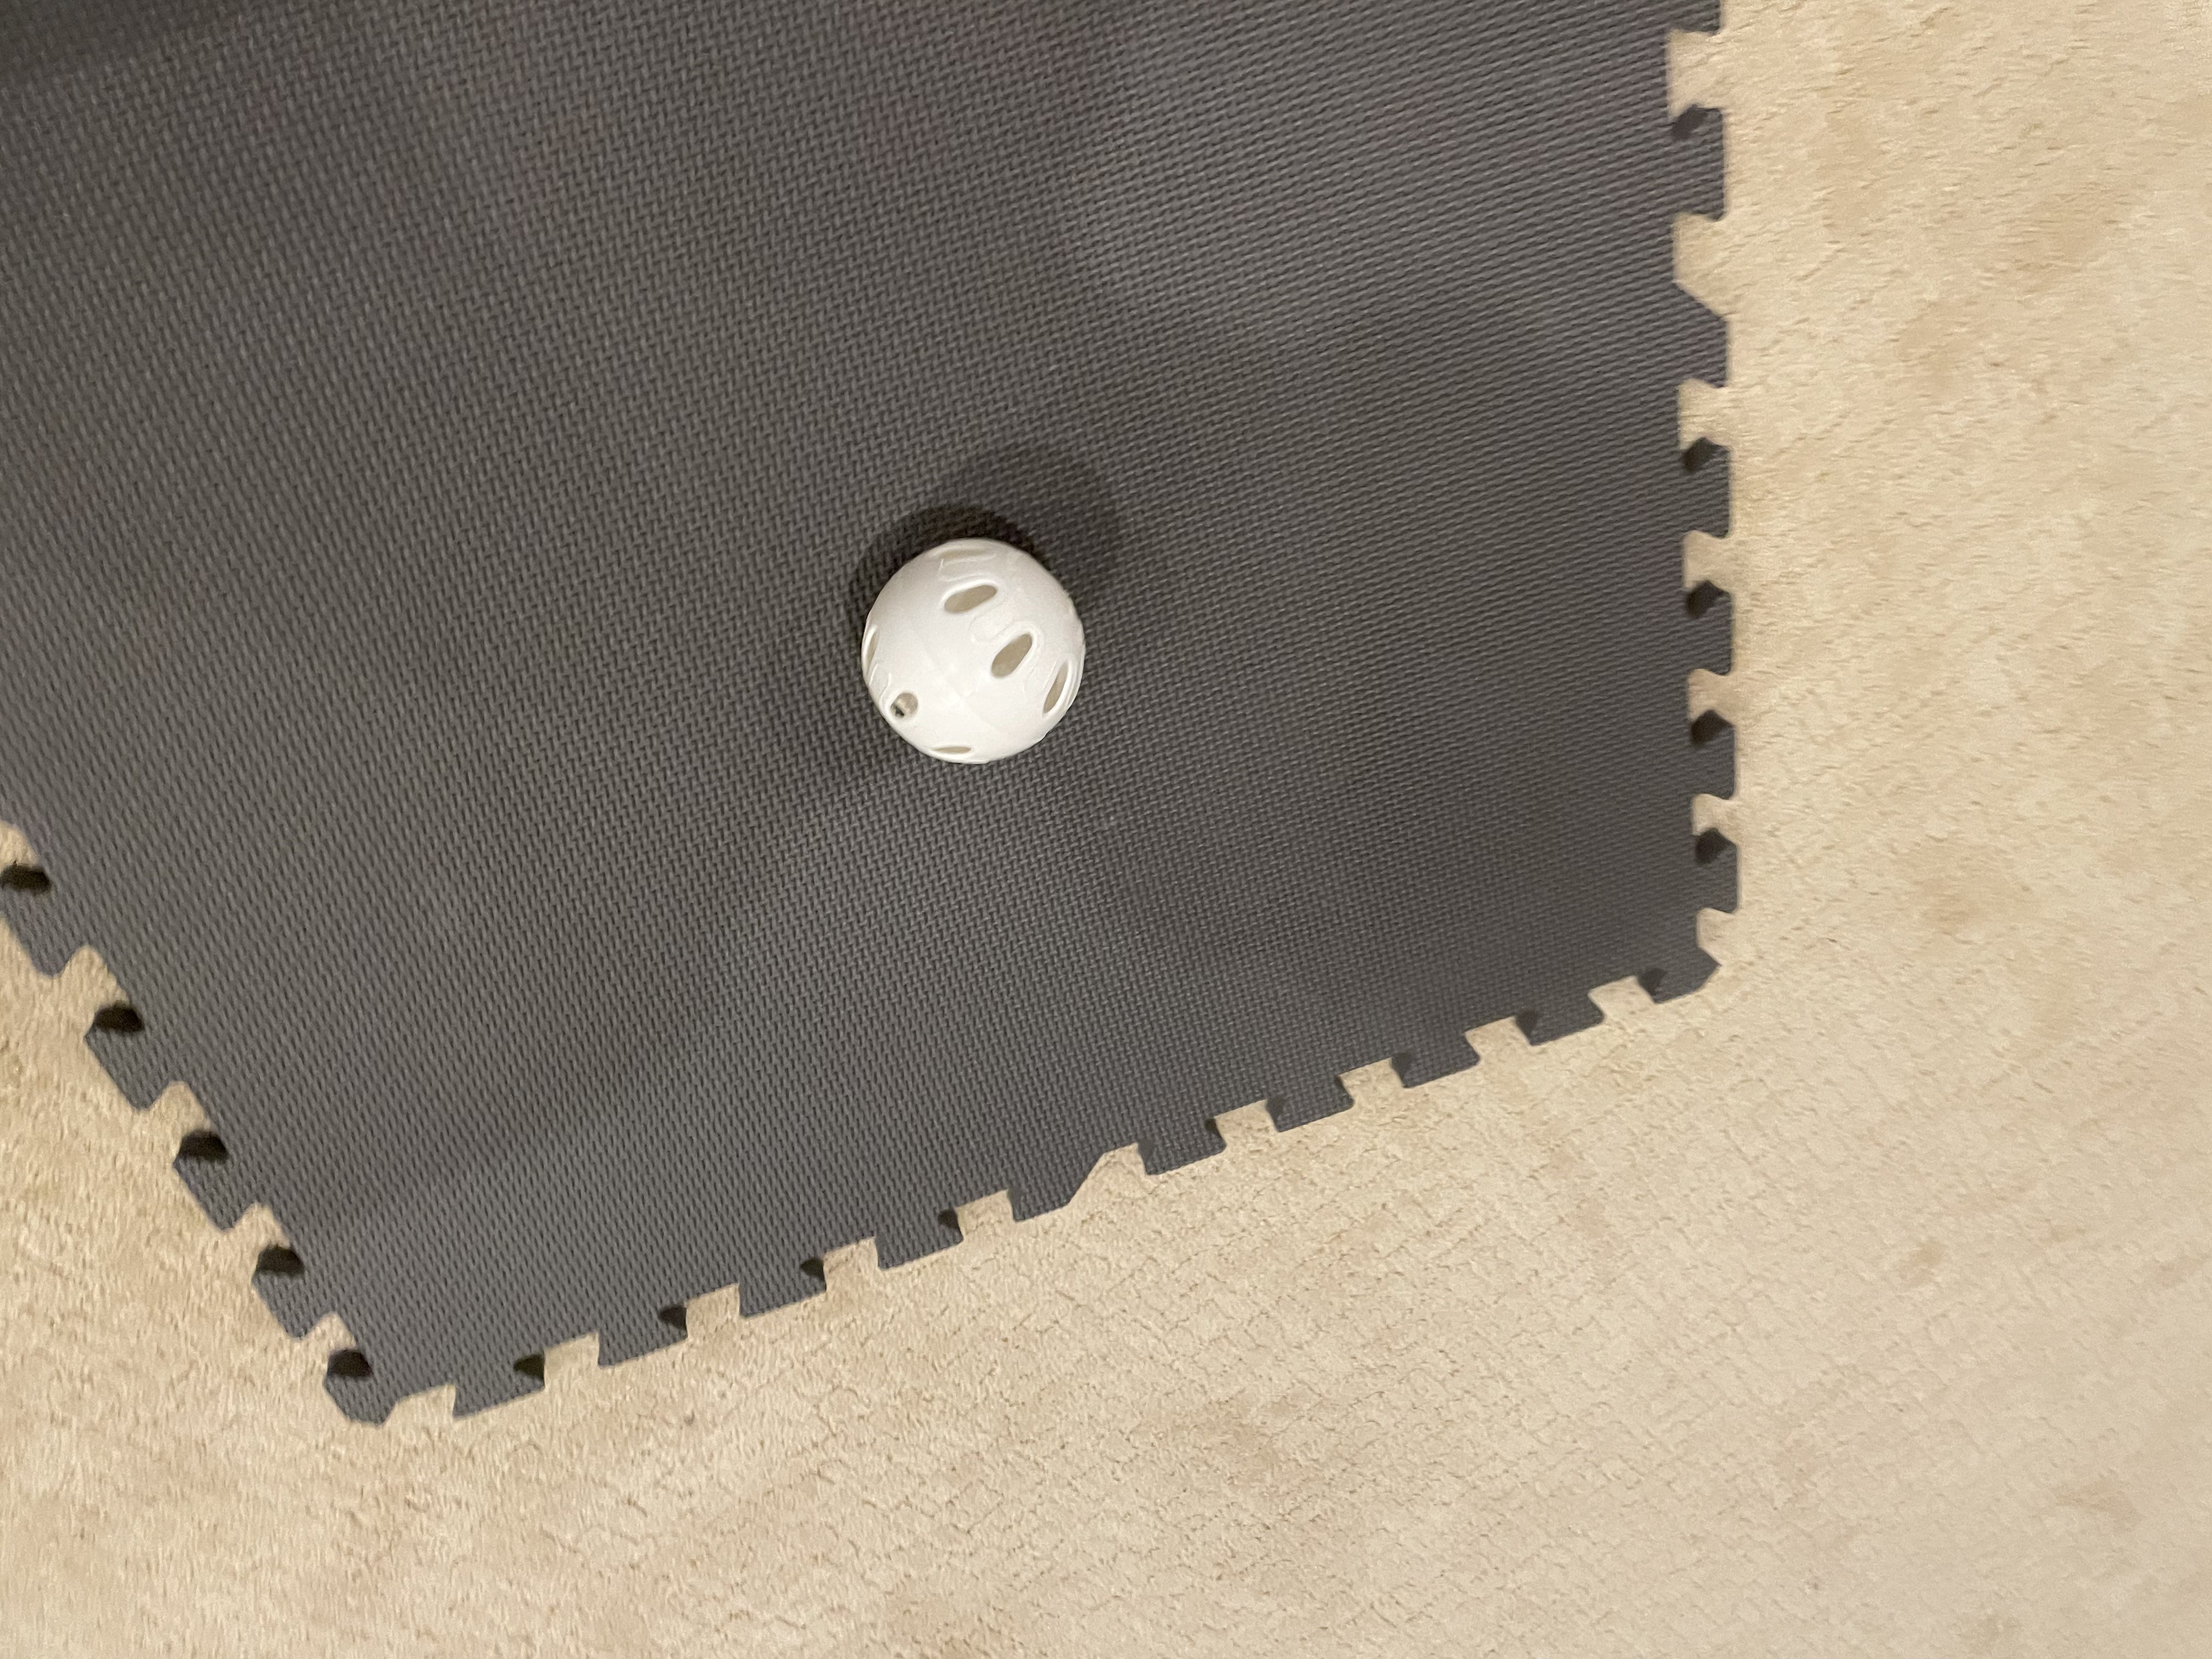ball: (840, 518, 1106, 782)
